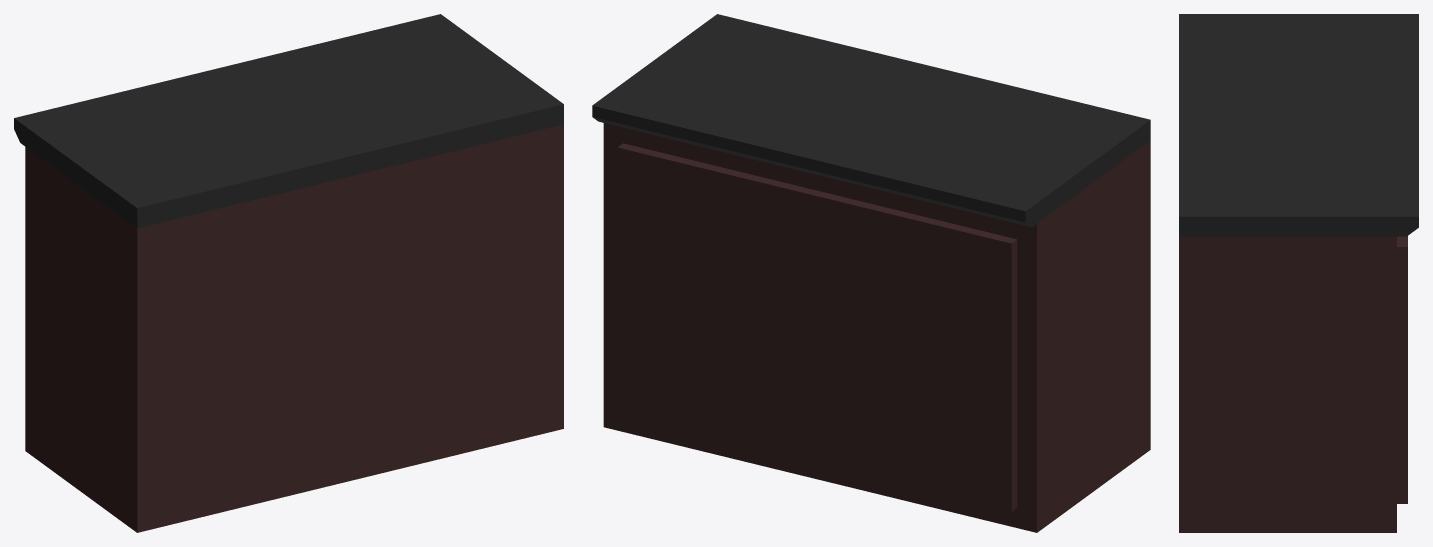
The model's file is Counter.fbx.
3 renders of one model, left to right at view 1: azimuth 30°, elevation 25°; view 2: azimuth 150°, elevation 25°; view 3: azimuth 270°, elevation 25°, orthographic. The views are drawn at different scales.
Visible parts, largest first — view 1: Counter, CounterTop.001; view 2: CounterFront.001, CounterTop.001, Counter; view 3: Counter, CounterTop.001, CounterFront.001.
Part boxes in pixels (bbox=[...]): Counter: bbox=[25, 124, 563, 532]; CounterTop.001: bbox=[14, 14, 563, 228]; CounterFront.001: bbox=[617, 143, 1017, 511]; CounterTop.001: bbox=[592, 14, 1150, 227]; Counter: bbox=[603, 123, 1150, 532]; Counter: bbox=[1179, 236, 1396, 532]; CounterTop.001: bbox=[1179, 14, 1418, 236]; CounterFront.001: bbox=[1397, 236, 1407, 503].
Bounding box in the file's own units: 220 × 160 × 110.
